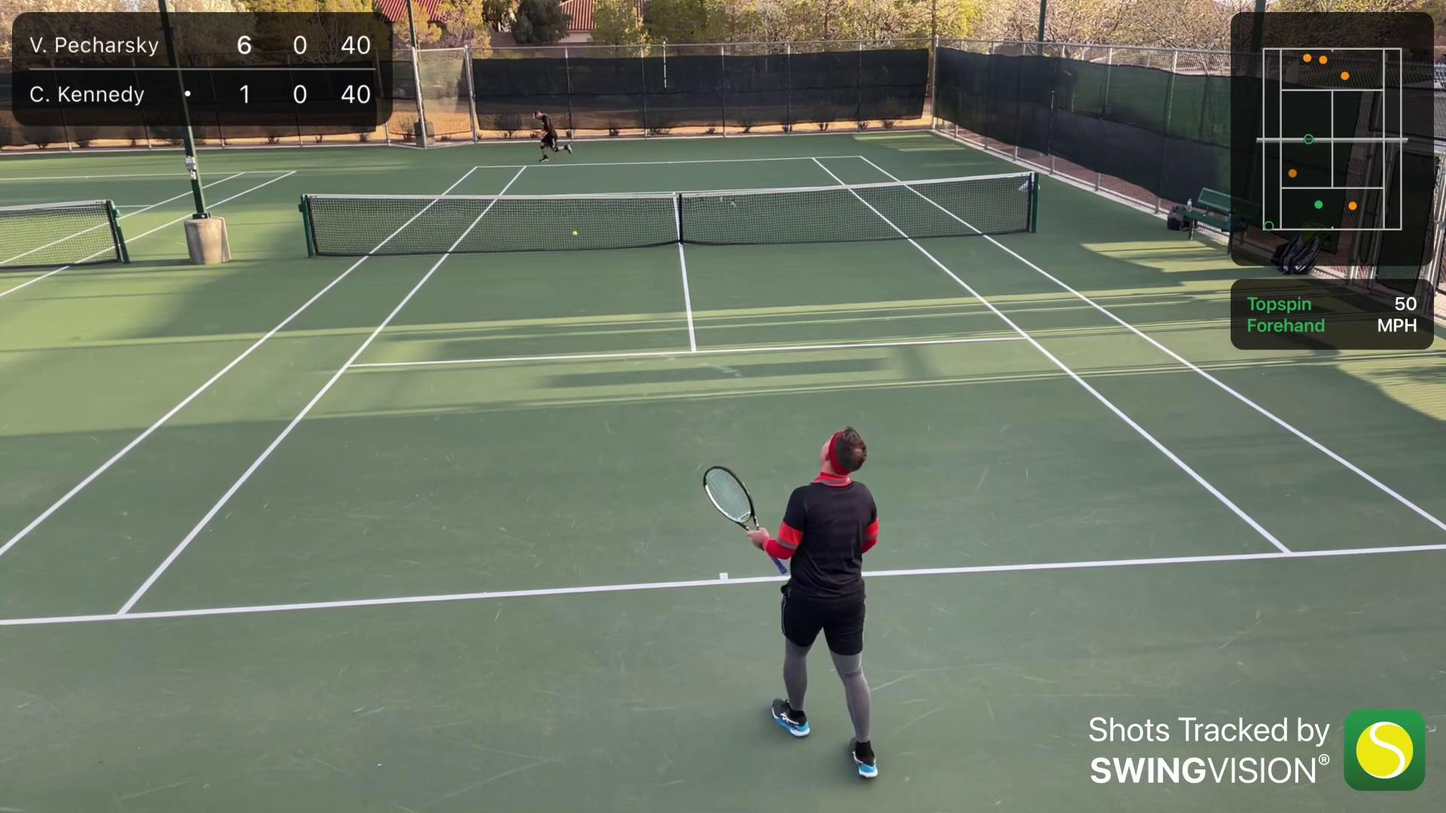ball: (571, 230, 578, 237)
